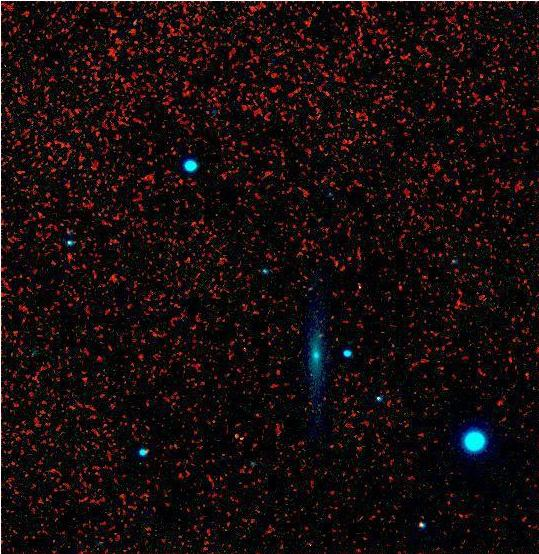star: (304, 320, 334, 350)
